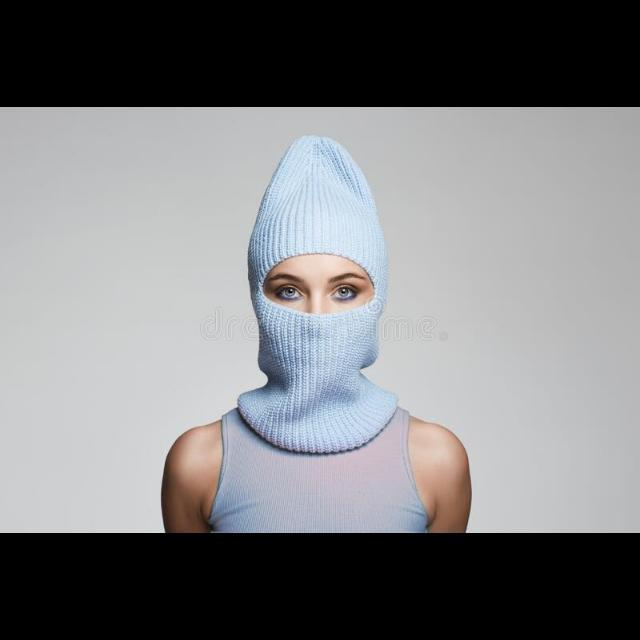criminal: (162, 135, 473, 533)
